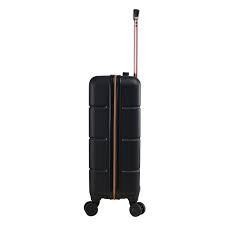suitcase: (81, 9, 145, 219)
